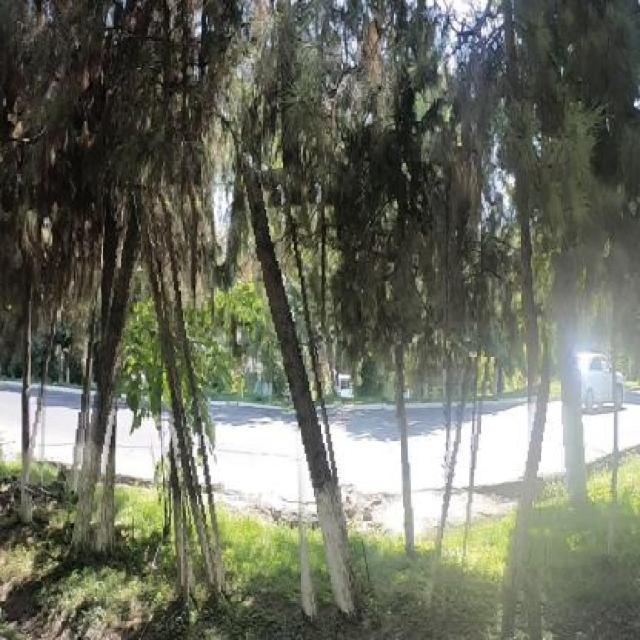tree trunk: (260, 164, 361, 640), (148, 184, 226, 611), (506, 261, 571, 640), (84, 184, 136, 558), (546, 252, 592, 530), (431, 356, 469, 632), (387, 343, 422, 582), (464, 358, 498, 596), (32, 260, 62, 497), (70, 238, 96, 496), (13, 249, 33, 525), (608, 328, 623, 564)
